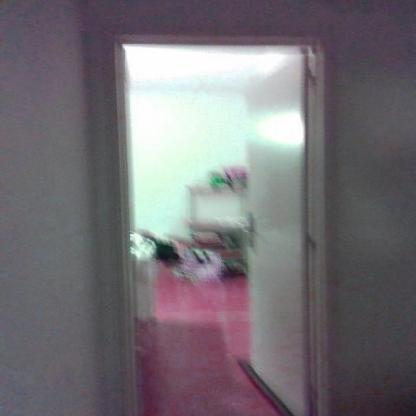door: (104, 28, 328, 416)
